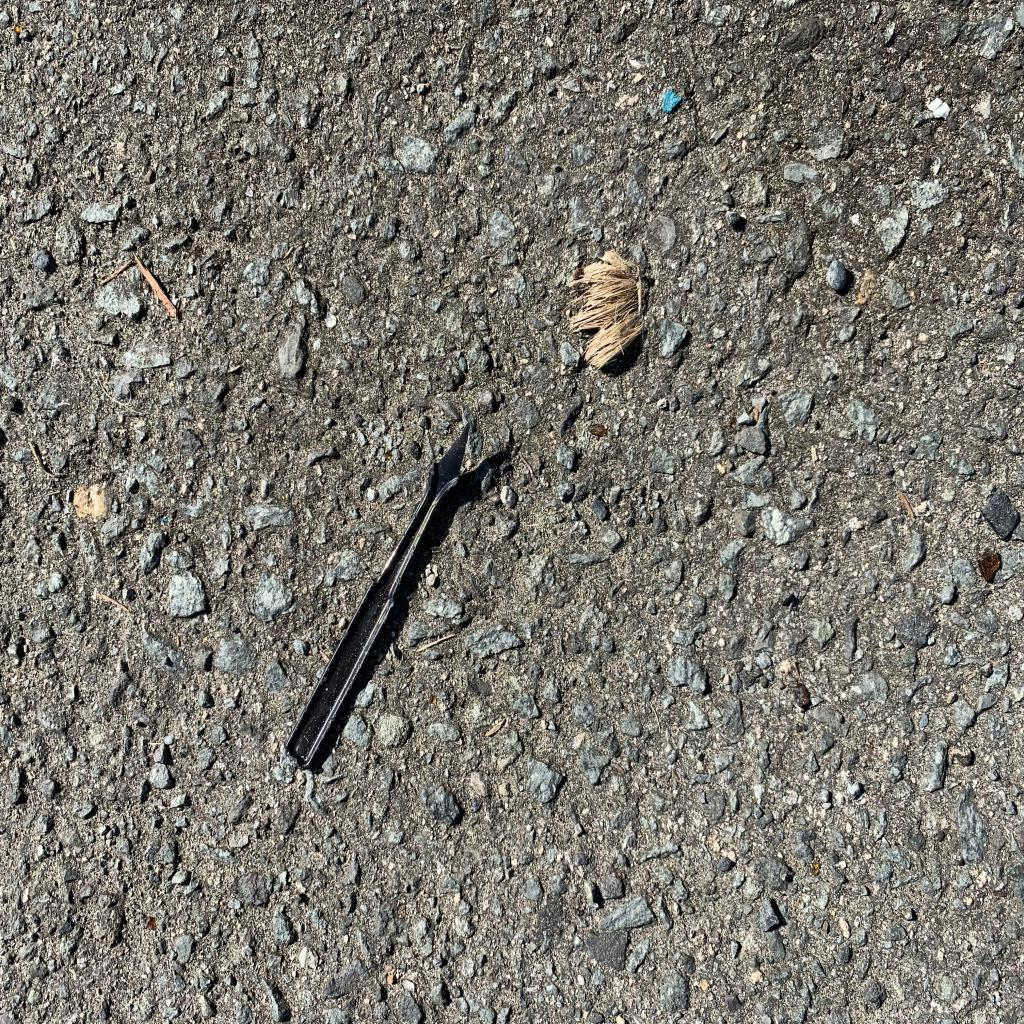Broken glass: (978, 552, 1000, 582), (794, 684, 809, 706), (145, 918, 157, 930), (812, 862, 820, 874), (15, 23, 22, 33)
Other plastic wrapper: (659, 90, 681, 112), (927, 99, 951, 119)
